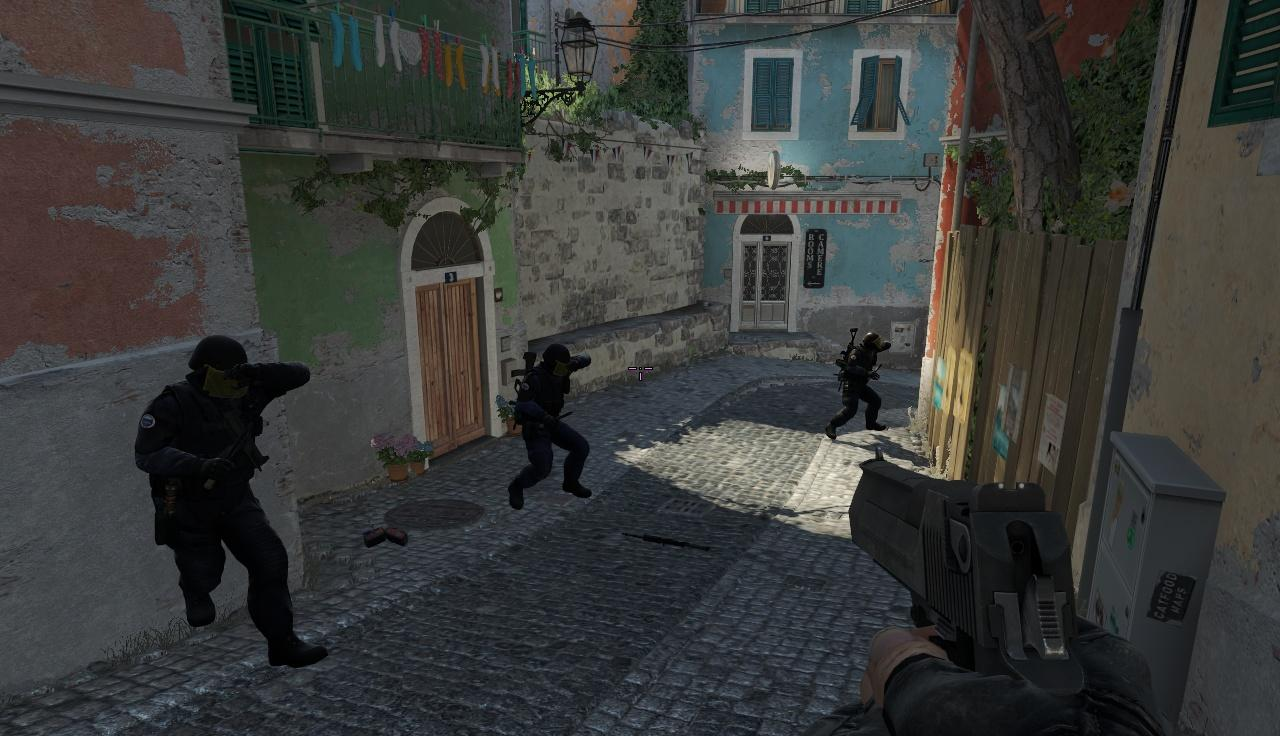ct: (143, 334, 291, 646), (514, 343, 590, 486), (838, 331, 883, 424)
cthead: (185, 336, 251, 400), (541, 343, 572, 377), (862, 332, 882, 352)
pistol: (839, 450, 1174, 736)
